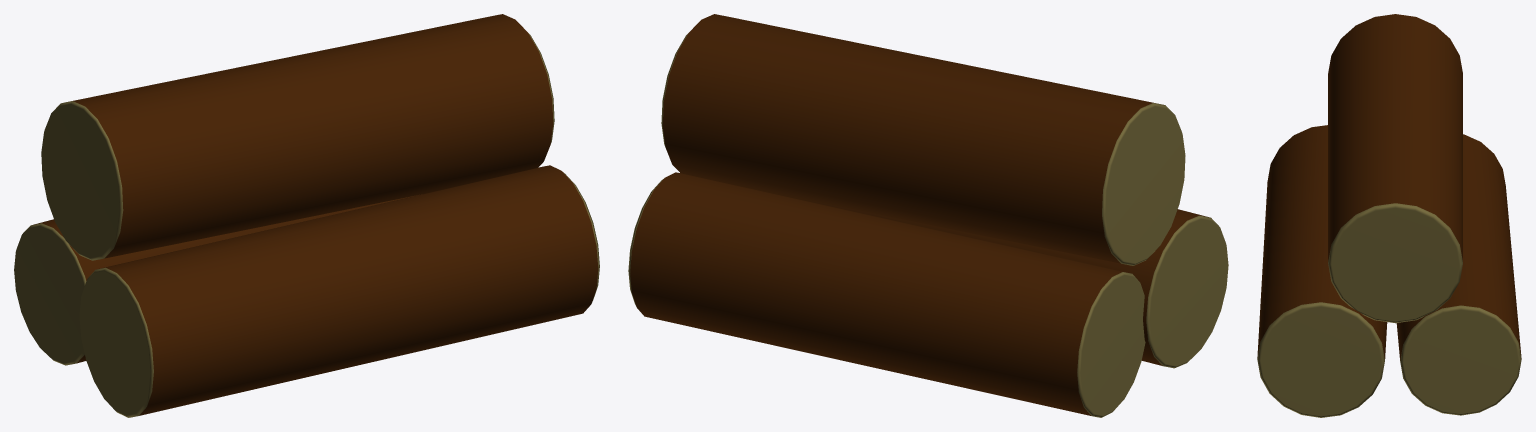
The model's file is SM_LogBundle.fbx.
3 renders of one model, left to right at view 1: azimuth 30°, elevation 25°; view 2: azimuth 150°, elevation 25°; view 3: azimuth 270°, elevation 25°, orthographic. The views are drawn at different scales.
Parts seen in each view (by area): view 1: geo_LogBundle; view 2: geo_LogBundle; view 3: geo_LogBundle.
Part boxes in pixels (x1=…): geo_LogBundle: x1=14, y1=14, x2=599, y2=417; geo_LogBundle: x1=628, y1=14, x2=1228, y2=417; geo_LogBundle: x1=1257, y1=14, x2=1521, y2=417.
Size of the model in its own units: 49.98 by 29.48 by 30.81.
